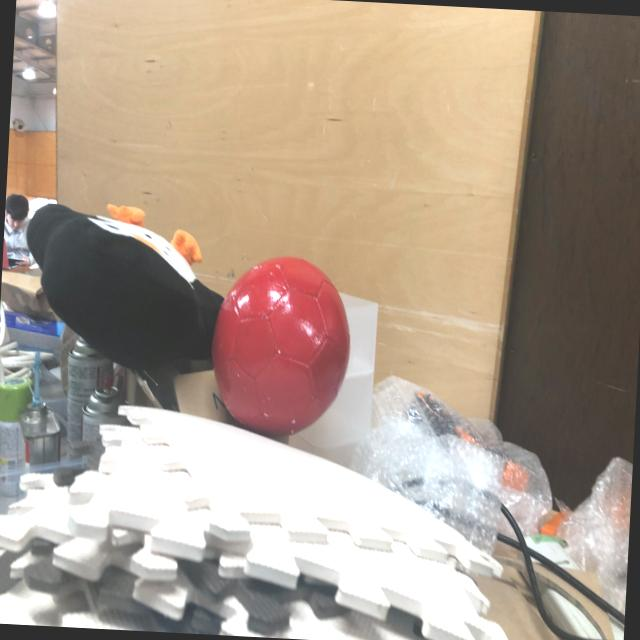red_ball: (208, 252, 356, 437)
